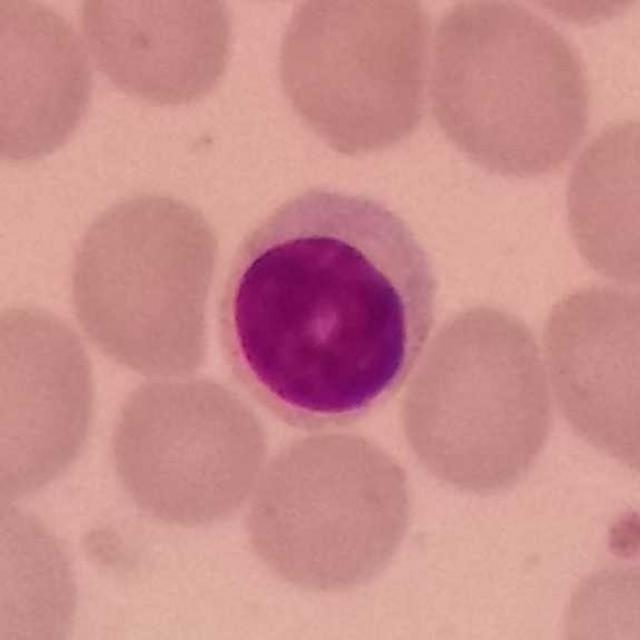Lymphocyte: (221, 184, 447, 423)
Platelets: (600, 499, 640, 566)
RBC: (393, 297, 562, 499), (237, 420, 421, 598), (421, 0, 599, 183), (61, 182, 227, 378), (100, 366, 274, 532), (270, 0, 438, 160), (534, 270, 640, 478), (0, 295, 106, 503), (70, 0, 242, 111), (0, 0, 101, 167), (555, 109, 640, 291), (0, 490, 89, 639), (546, 548, 640, 640), (478, 0, 640, 26)
